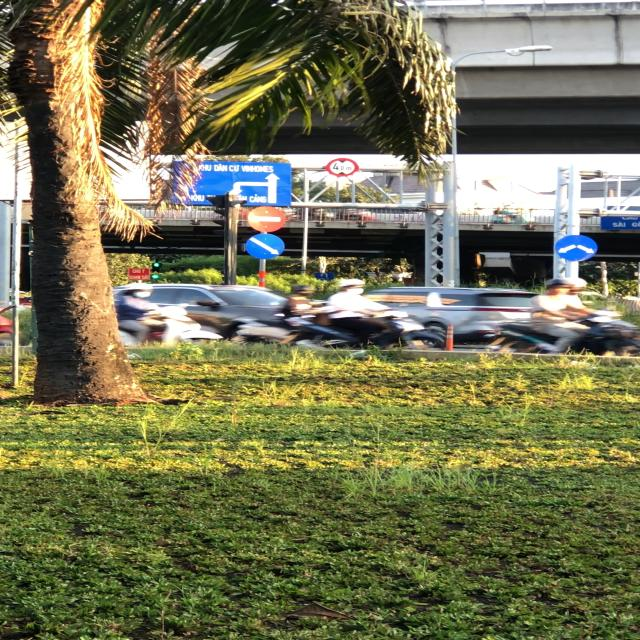Bien bao cam di nguoc chieu: (245, 204, 290, 234)
Bien bao han che chieu cao: (326, 156, 362, 178)
Bien bao huong phai di vong chuong ngai vat: (555, 232, 601, 266), (241, 233, 288, 262)
